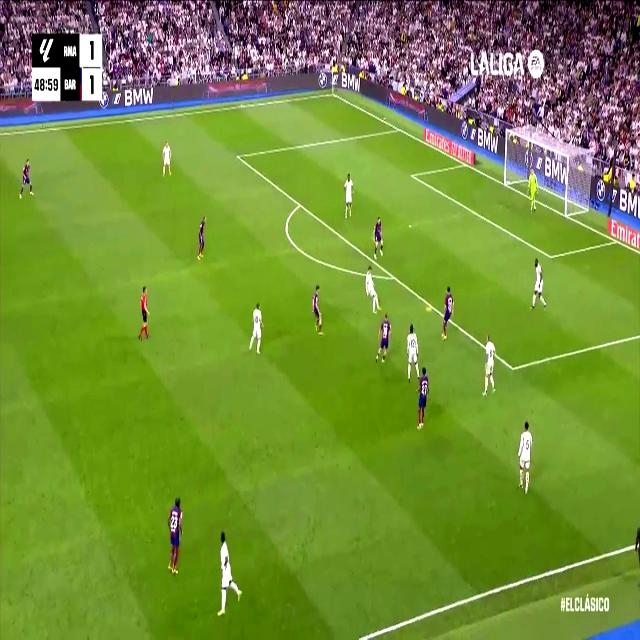bigarea_bottom_inner: (508, 356, 518, 379)
bigarea_top_inner: (234, 148, 242, 164)
bigarea_top_outter: (394, 122, 402, 134)
bottom_arc_area_intersection: (391, 270, 396, 283)
corner: (329, 89, 336, 98)
smallarea_bottom_inner: (547, 248, 555, 266)
smallarea_top_inner: (410, 170, 414, 180)
top_arc_area_intersection: (296, 196, 304, 212)
